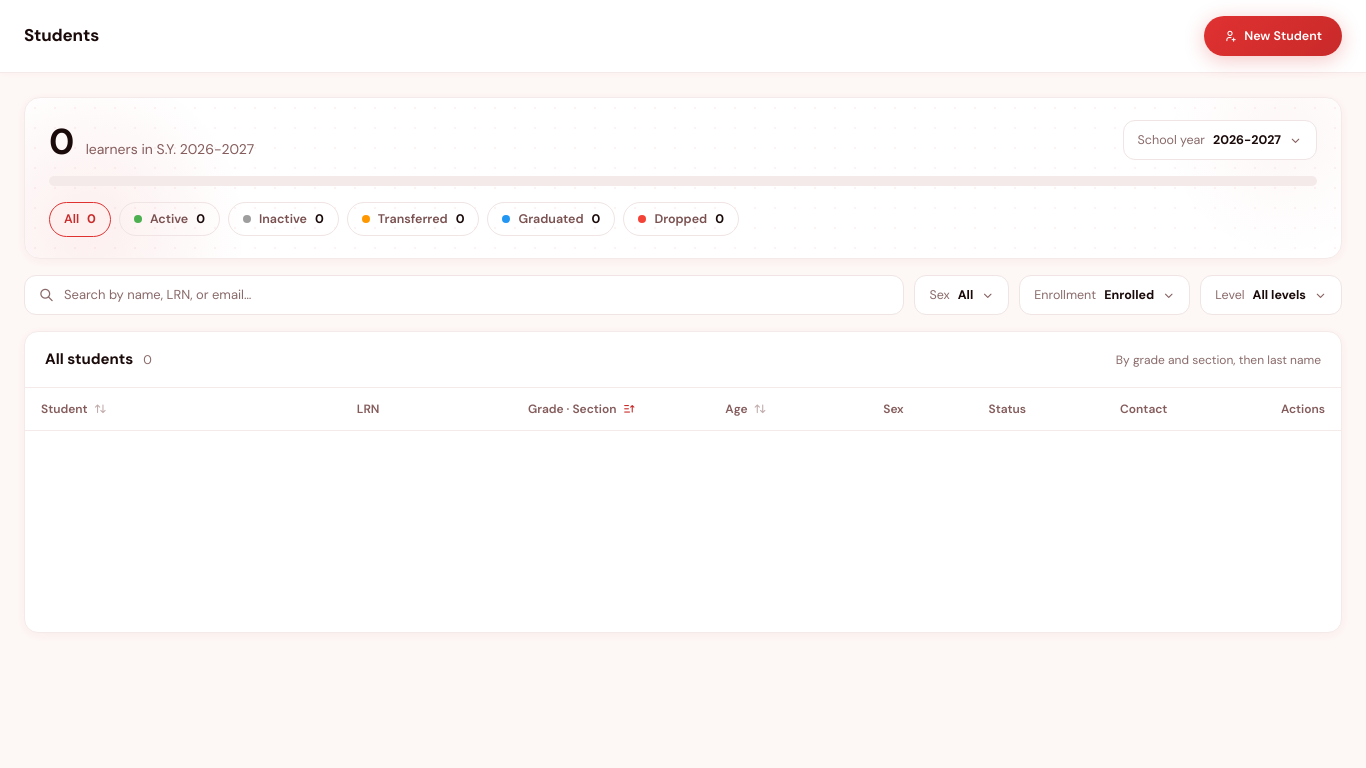
Test: StudentsPage — status band › filters by a status from its legend button, and goes back to all on a second click
Click the button with aria-label "Active 6": coordinates (170, 219) 119,202 -> 220,236
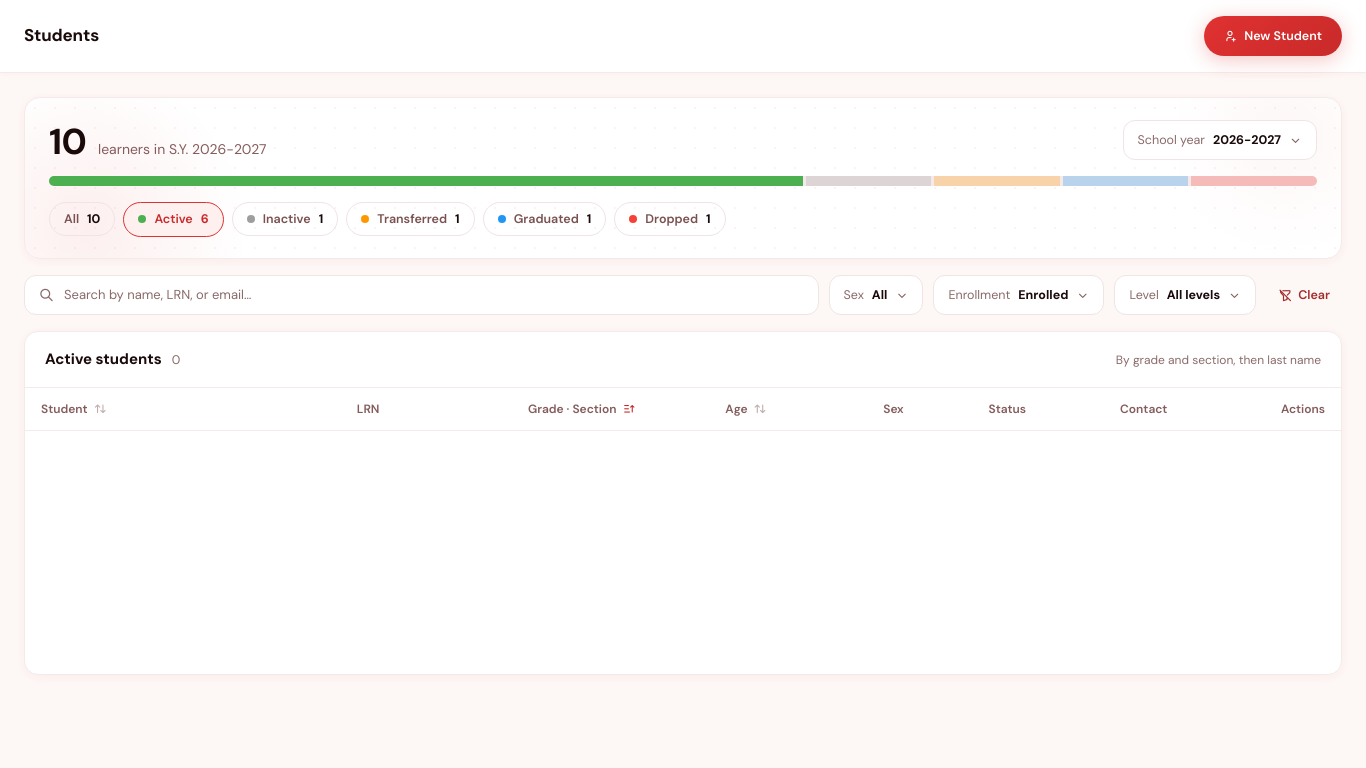
Check: the heading "Active students" is shown, box 45,348 -> 162,370
Click the button "Active 6": coordinates (174, 219) 123,202 -> 224,236
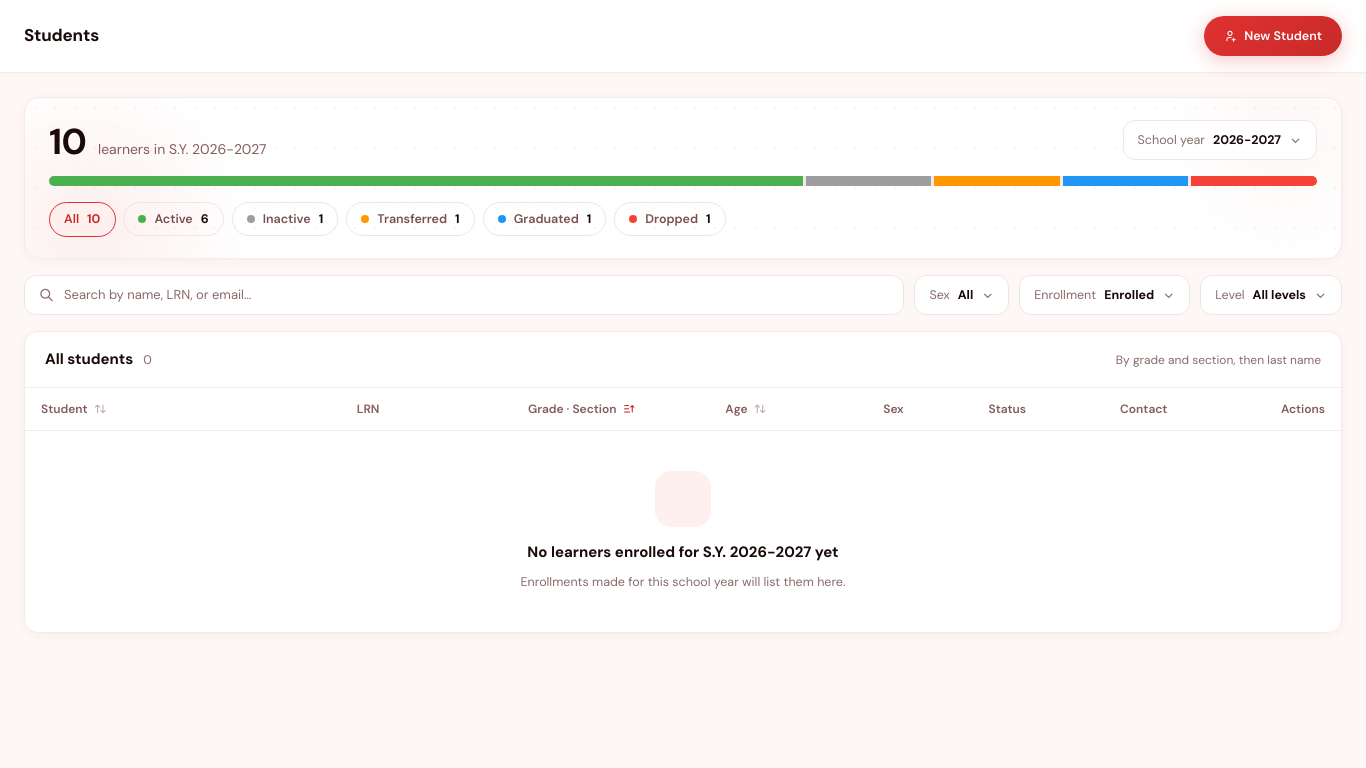
Check: the heading "All students" is shown, box 45,348 -> 133,370
